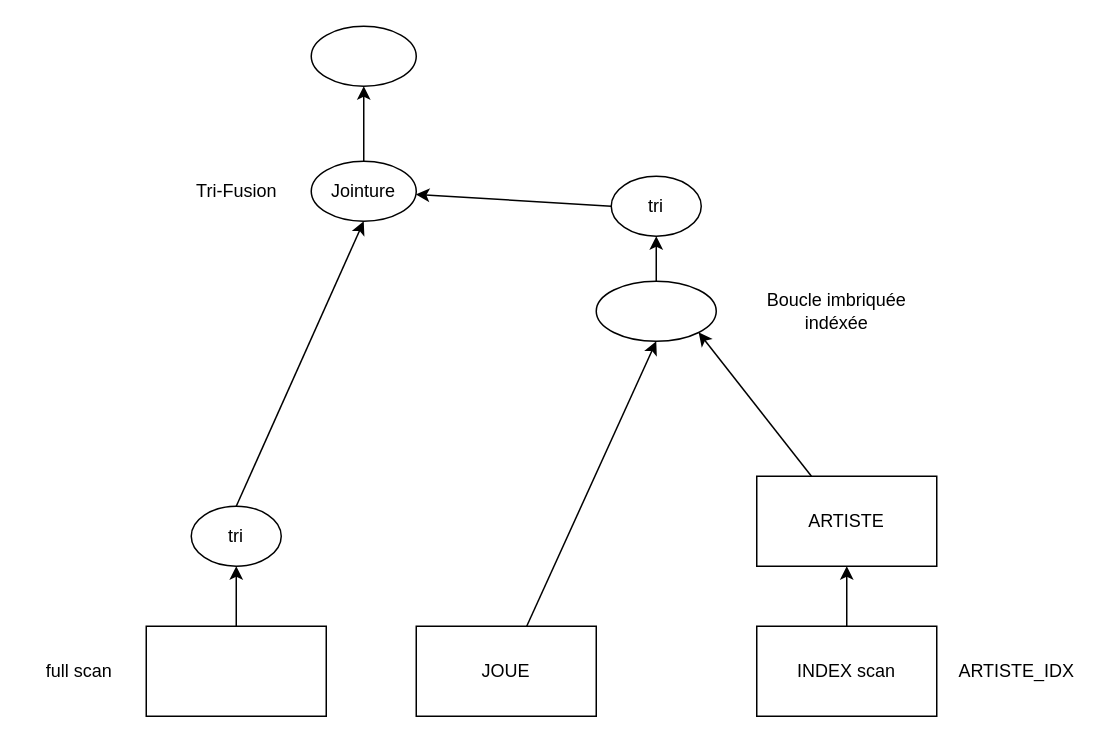
Some shapes in this 1116 by 743 pixel diagram are drawn without their labels. Here are the shapes that lost their labels. From the top down, the centre of each, then its label:
(x=363, y=55): Projection statement
(x=655, y=310): NESTED LOOP
(x=235, y=670): FILM
